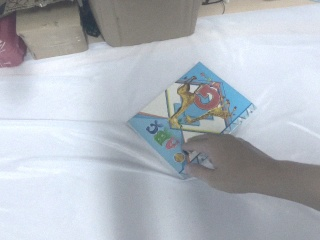book: (125, 53, 259, 181)
box: (80, 1, 205, 48), (16, 1, 89, 60)
